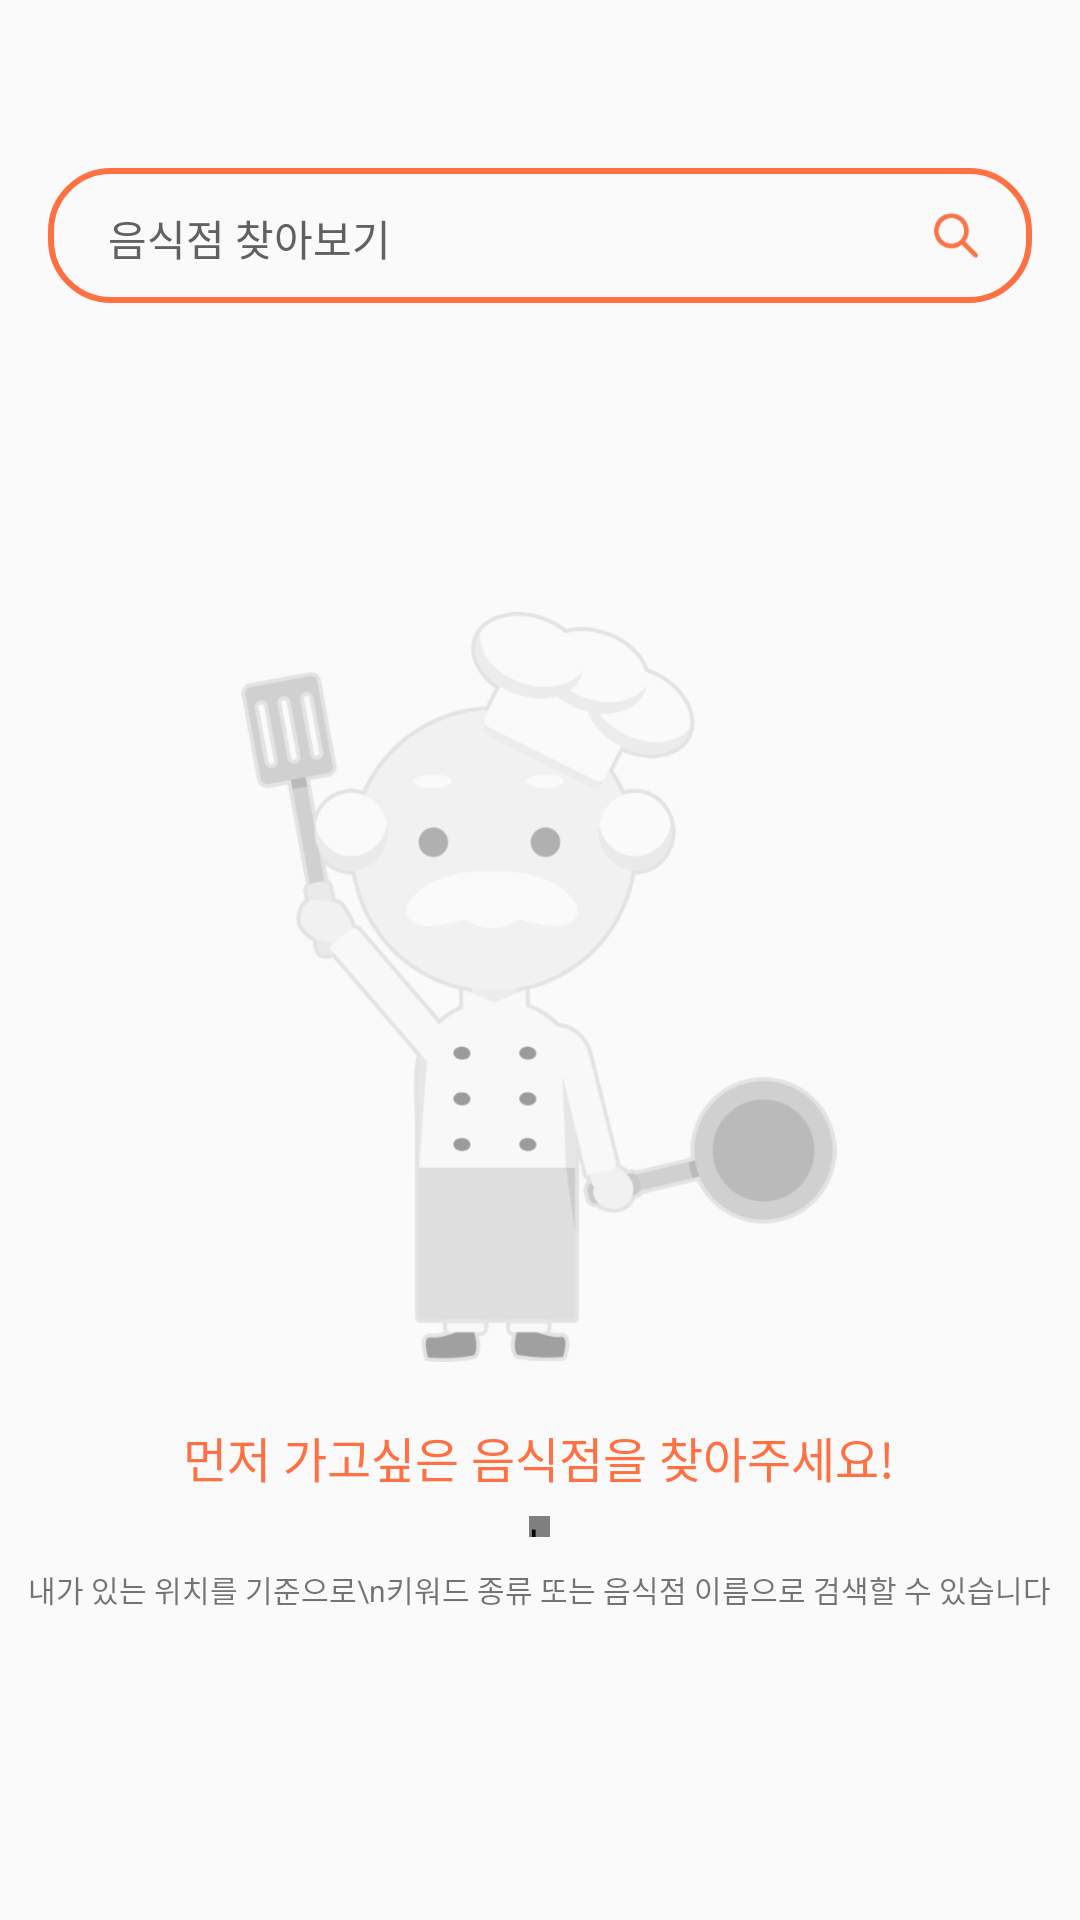

Where to tap for icons on this 1080w x 1920h app screen, as (x=x, y=y):
search: (x=956, y=235)
